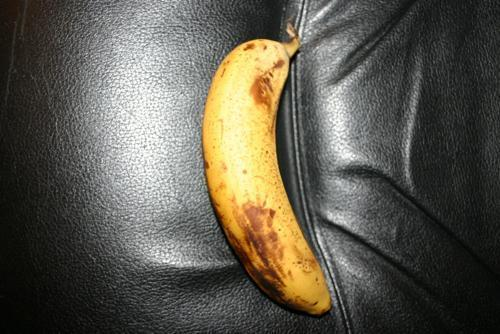banana: (196, 36, 338, 314)
